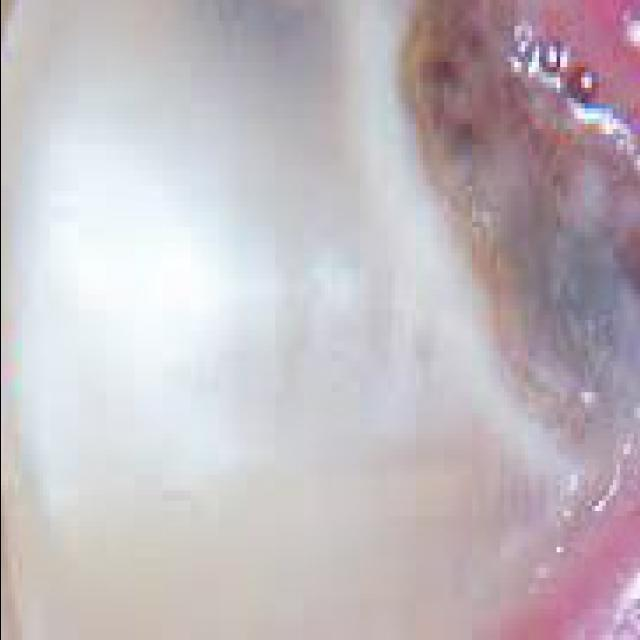caries: (408, 0, 640, 459)
